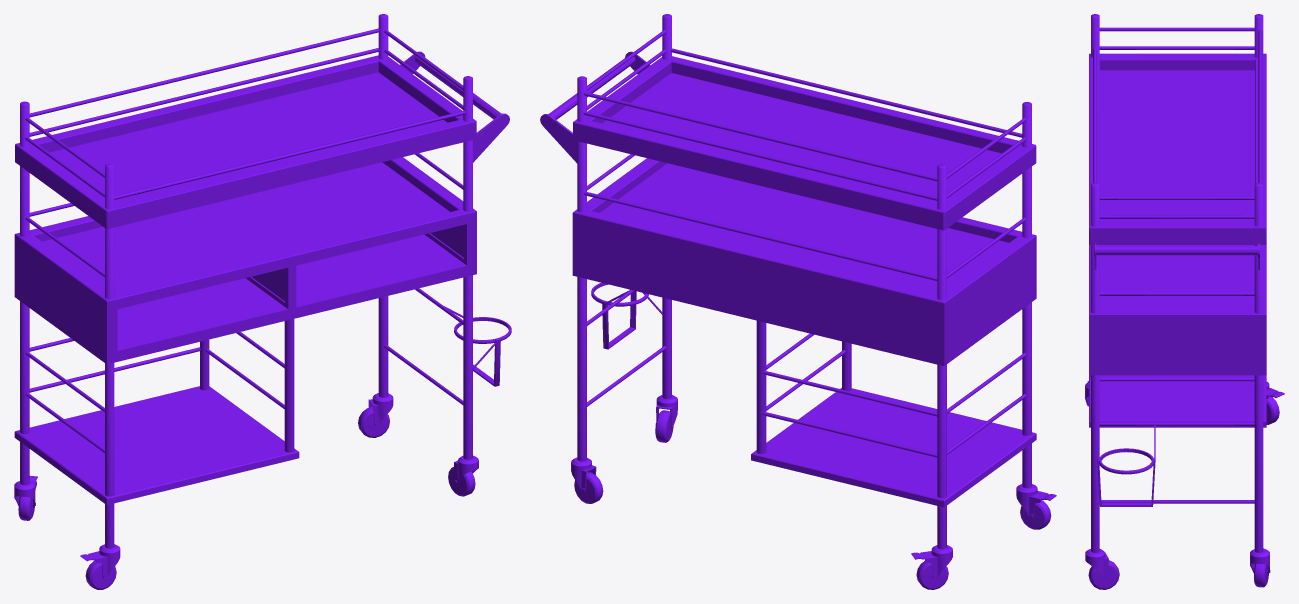
The model's file is Medical_Cart02.fbx.
The picture shows the model from 3 angles, left to right: view 1: azimuth 30°, elevation 25°; view 2: azimuth 150°, elevation 25°; view 3: azimuth 270°, elevation 25°; orthographic projection. The views are drawn at different scales.
Visible parts, largest first — view 1: SM_Medical_Cart02; view 2: SM_Medical_Cart02; view 3: SM_Medical_Cart02.
Part boxes in pixels (x1,y1,x2,y2): SM_Medical_Cart02: (14,14,511,589); SM_Medical_Cart02: (540,14,1056,589); SM_Medical_Cart02: (1085,14,1284,589).
Size of the model in its own units: 1.51 by 1.38 by 0.6134.
